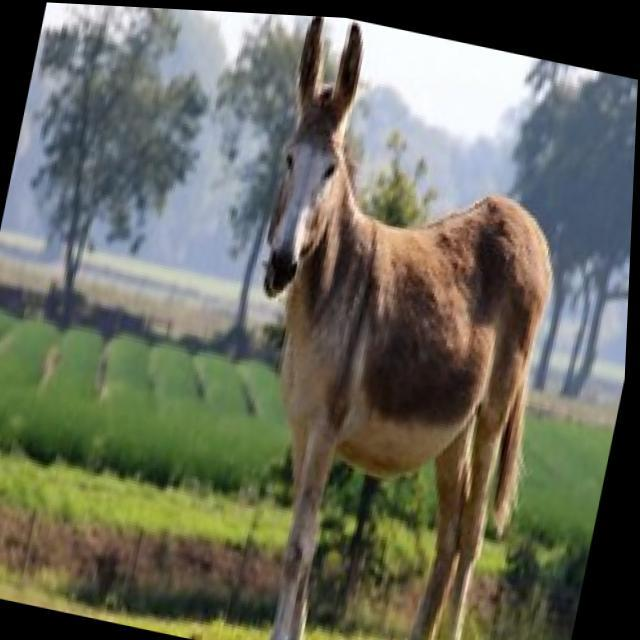Donkey: (155, 7, 640, 640)
